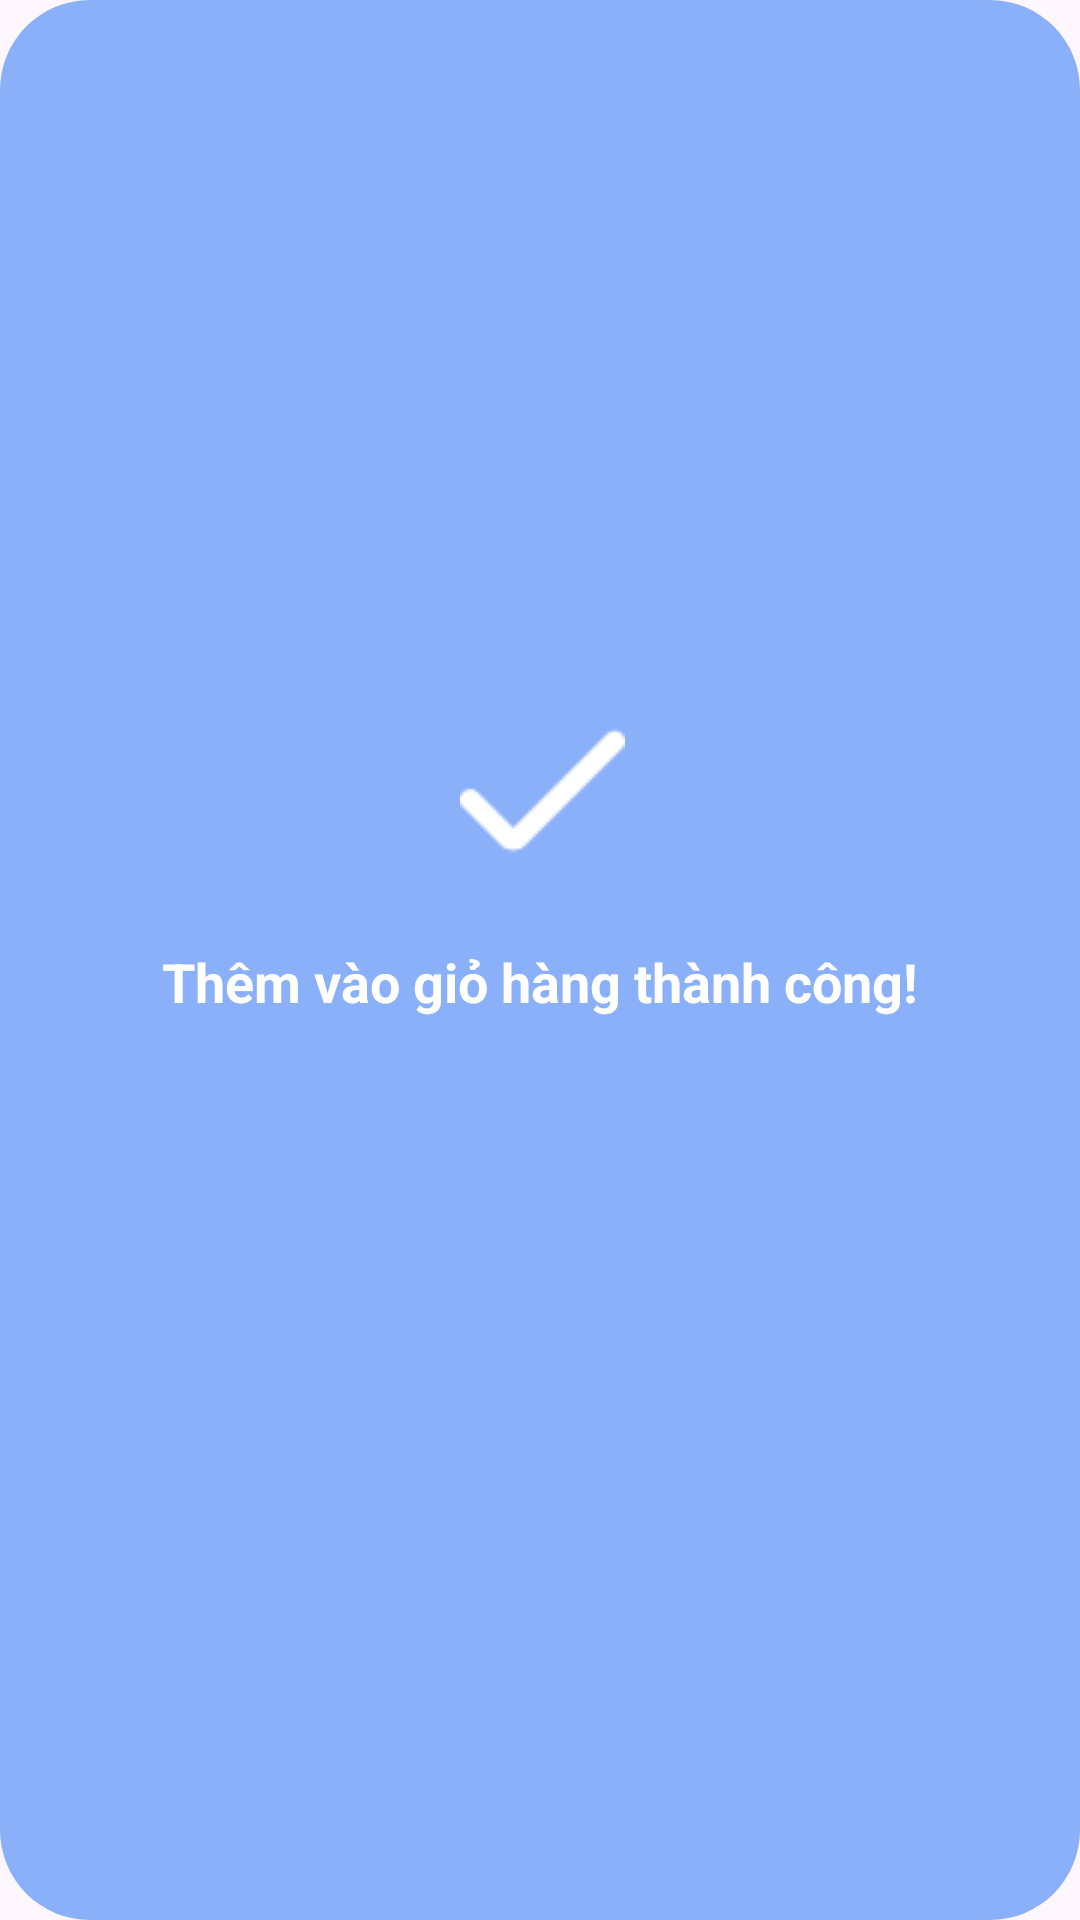

Icons on this 1080x1920 Android screen, each with the point to tap as point (x, y):
check: point (542, 790)
